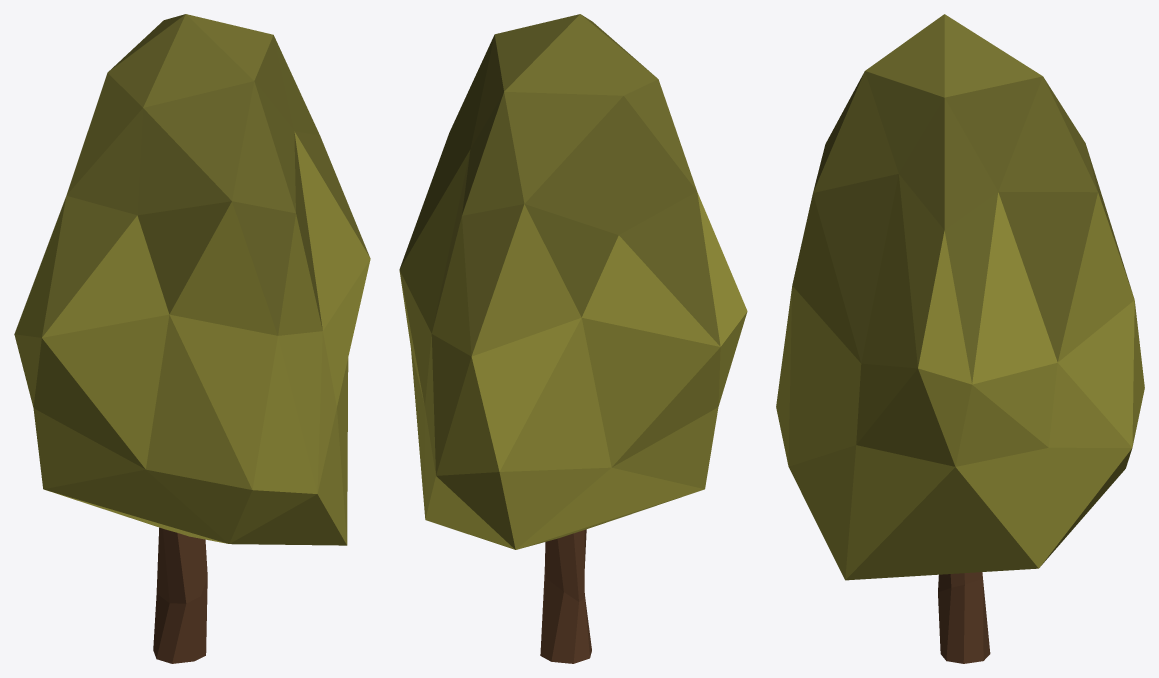
Rendered from Tree_59_Yellow.fbx.
The picture shows the model from 3 angles, left to right: view 1: azimuth 30°, elevation 25°; view 2: azimuth 150°, elevation 25°; view 3: azimuth 270°, elevation 25°; orthographic projection. The views are drawn at different scales.
Parts seen in each view (by area): view 1: Tree_59_Yellow_Part_1, Tree_59_Yellow_Part_2; view 2: Tree_59_Yellow_Part_1, Tree_59_Yellow_Part_2; view 3: Tree_59_Yellow_Part_1, Tree_59_Yellow_Part_2.
Boxes of the visible parts, left/top/right/bottom form: Tree_59_Yellow_Part_1: left=14, top=14, right=370, bottom=545; Tree_59_Yellow_Part_2: left=153, top=527, right=207, bottom=663; Tree_59_Yellow_Part_1: left=399, top=14, right=747, bottom=549; Tree_59_Yellow_Part_2: left=540, top=529, right=591, bottom=663; Tree_59_Yellow_Part_1: left=776, top=14, right=1144, bottom=580; Tree_59_Yellow_Part_2: left=938, top=572, right=990, bottom=663.
Size of the model in its own units: 425 by 800 by 420.
